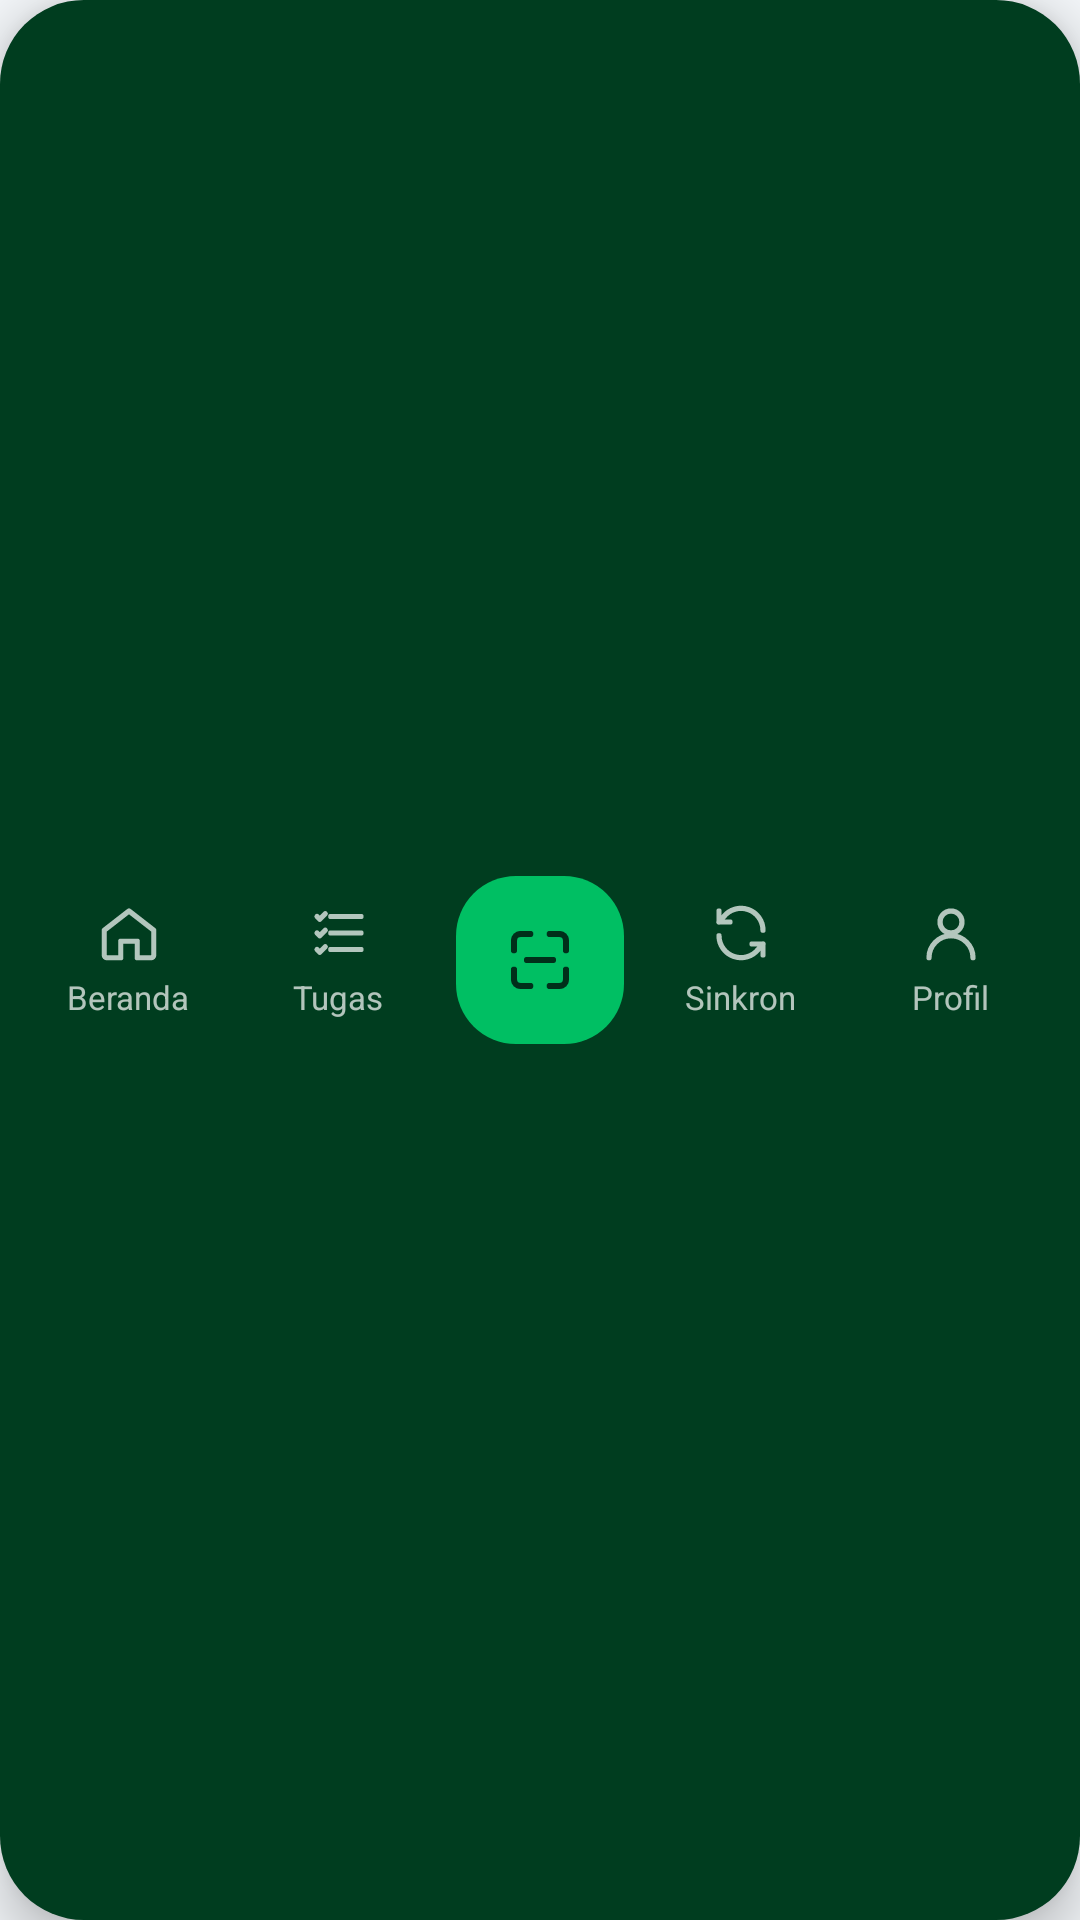

Locate icon controls on the screen. Image size 1080×1920, boxes as (x1, y1, x2, y2).
scan: (511, 931, 569, 989)
